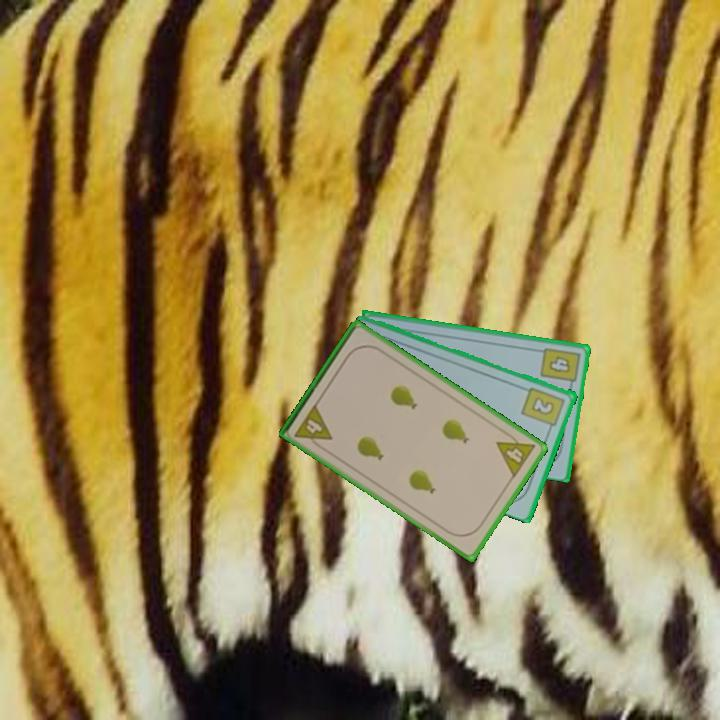2b: (518, 383, 568, 434)
4b: (537, 344, 583, 391)
4p: (493, 427, 538, 481), (291, 400, 335, 453)
